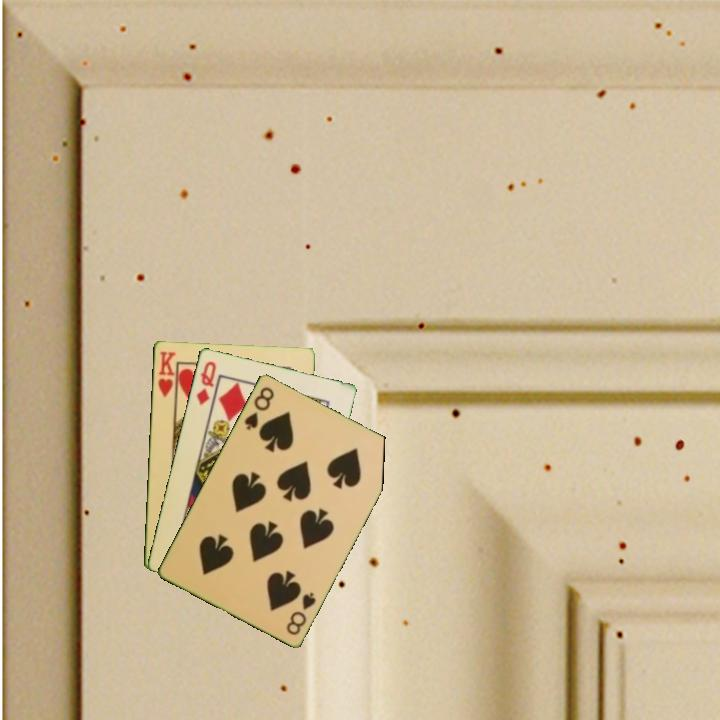8s: (240, 383, 277, 433), (282, 588, 319, 638)
Kh: (154, 347, 179, 403)
Qd: (192, 357, 219, 408)
